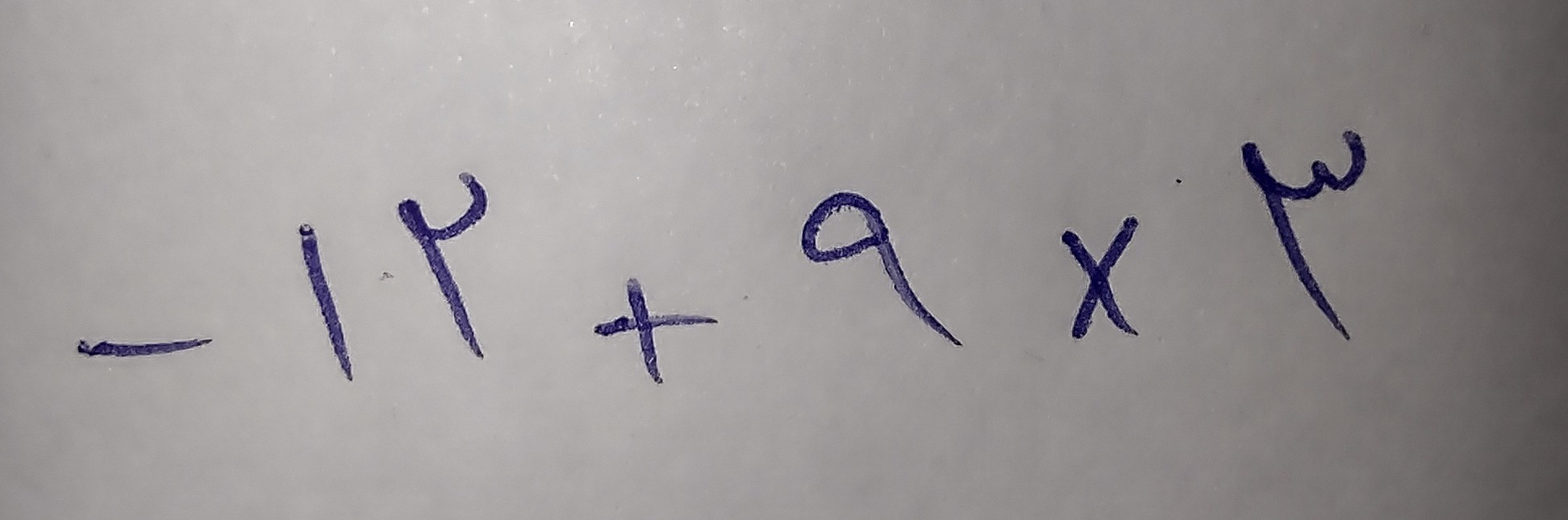character: (1243, 126, 1370, 344), (802, 191, 970, 353), (398, 171, 488, 361), (593, 277, 719, 388), (1061, 216, 1142, 341), (299, 222, 356, 382), (75, 337, 213, 365)
